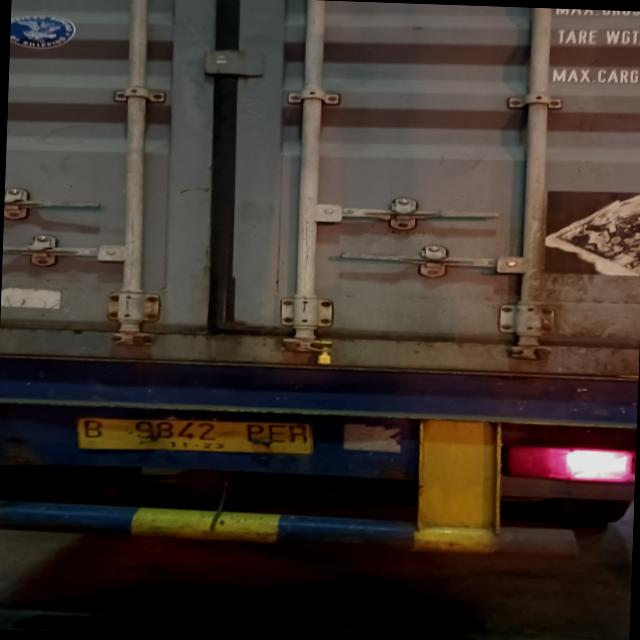seal: (314, 340, 334, 364)
